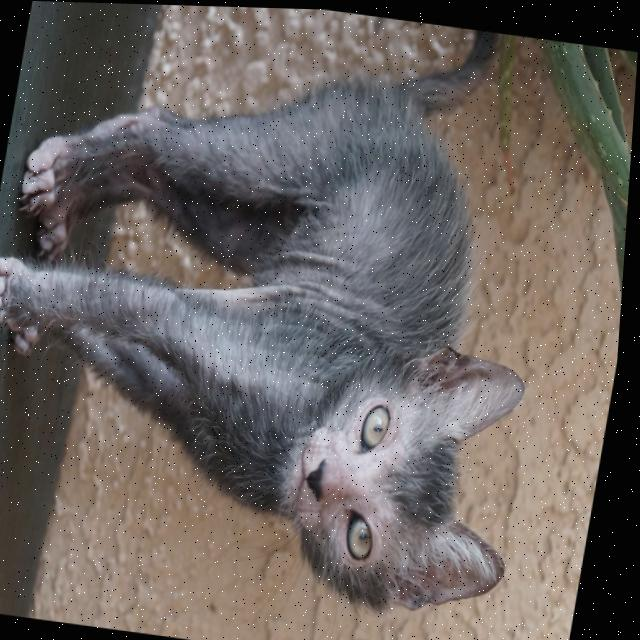Lykoi: (0, 0, 603, 640)
